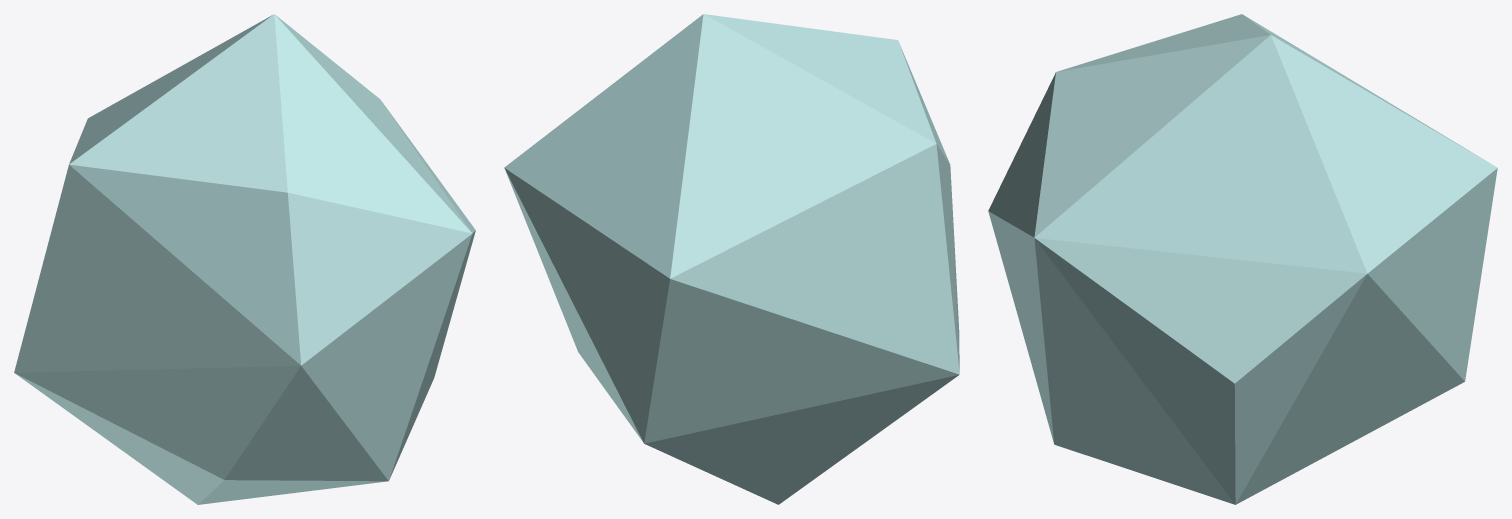
Rendered from cloud-009.glb.
3 renders of one model, left to right at view 1: azimuth 30°, elevation 25°; view 2: azimuth 150°, elevation 25°; view 3: azimuth 270°, elevation 25°, orthographic. The views are drawn at different scales.
Visible parts, largest first — view 1: cloud 23_32; view 2: cloud 23_32; view 3: cloud 23_32.
Part boxes in pixels (x1,y1,x2,y2): cloud 23_32: [14, 14, 475, 504]; cloud 23_32: [504, 14, 959, 504]; cloud 23_32: [988, 14, 1497, 504].
Size of the model in its own units: 0.5439 by 0.5555 by 0.5259.
